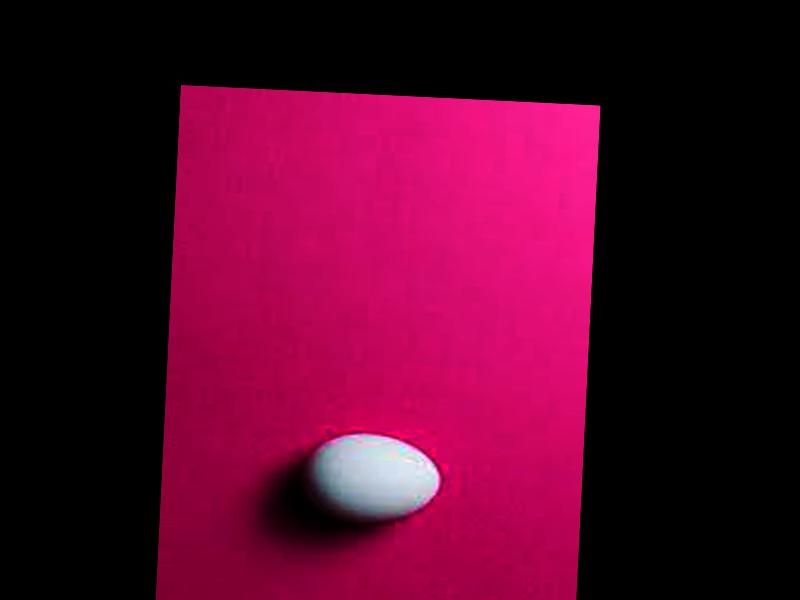Eggs: (300, 430, 442, 525)
